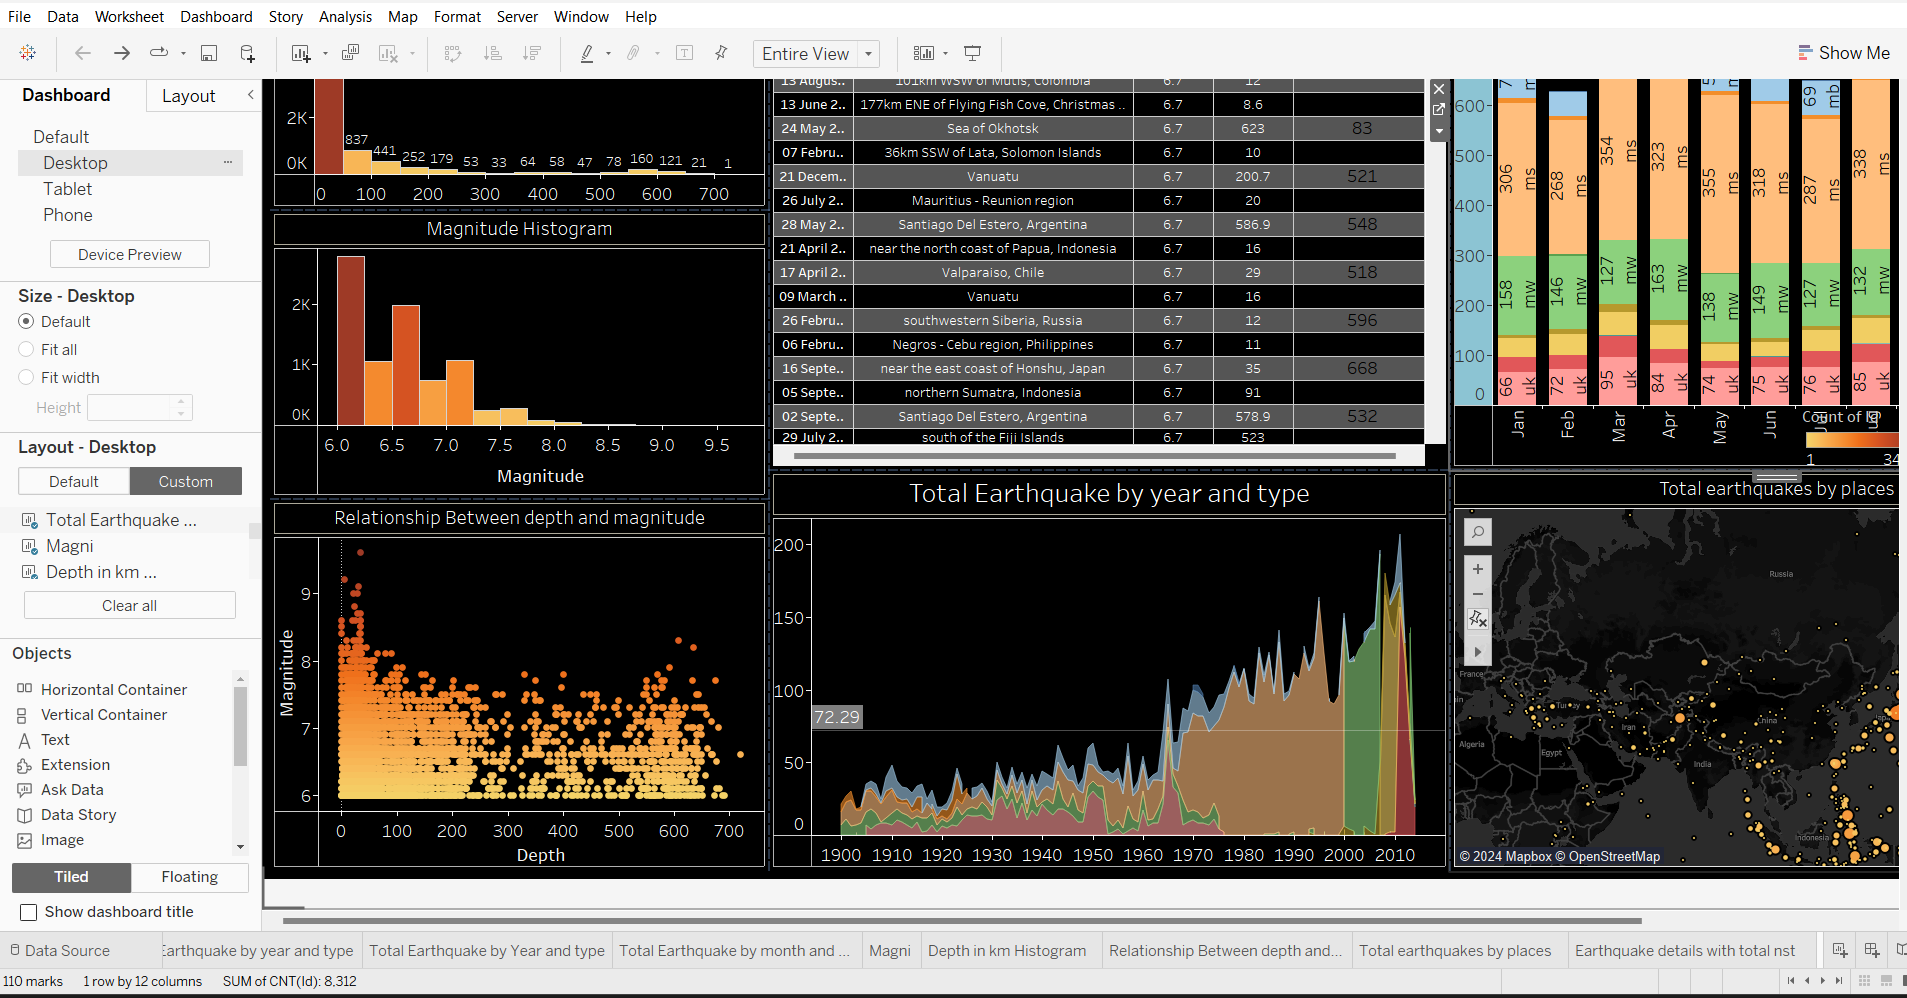

The dashboard page shown, as its layout file describes it:
{"tool":"tableau","page":{"name":"Dashboard 1","canvas":[1850,1050],"ordinal":0},"visuals":[{"type":"filter","title":"Total Earthquake by year and type","param":"[federated.1w4dnm40w1v2qy1ahu4ej04qu947].[none:Calculation_1507298525787938816:o","box":[8,8,1834,101]},{"type":"worksheet","title":"Depth in km Histogram","mark":"Automatic","rows":["depth"],"cols":["Depth (bin)"],"box":[8,109,499,258]},{"type":"worksheet","title":"Earthquake details with total nst","mark":"Automatic","rows":["Date","place","mag","depth"],"box":[507,109,681,532]},{"type":"worksheet","title":"Total Earthquake by month and type ","mark":"Bar","rows":["id"],"cols":["Date"],"box":[1188,109,654,532]},{"type":"worksheet","title":"Magni","mark":"Automatic","rows":["mag"],"cols":["Mag (bin)"],"box":[8,367,499,274]},{"type":"legend","title":"Total earthquakes by places","param":"[federated.1w4dnm40w1v2qy1ahu4ej04qu947].[cnt:id:qk]","box":[1540,577,113,64]},{"type":"worksheet","title":"Relationship Between depth and magnitude","mark":"Automatic","rows":["mag"],"cols":["depth"],"box":[8,641,499,401]},{"type":"worksheet","title":"Total Earthquake by year and type","mark":"Area","rows":["id"],"cols":["Date"],"box":[507,641,681,401]},{"type":"worksheet","title":"Total earthquakes by places","mark":"Automatic","rows":["latitude"],"cols":["longitude"],"box":[1188,641,654,401]}]}

Visuals, with their boxes on the page's 1850x1050 design canvas (x1, y1, x2, y2). These are canvas units, not pixel positions in the 1907x998 screenshot, which may show the page scaled, cropped or inside an application window:
"Total Earthquake by year and type" filter: bbox=(8, 8, 1842, 109)
"Depth in km Histogram" worksheet: bbox=(8, 109, 507, 367)
"Earthquake details with total nst" worksheet: bbox=(507, 109, 1188, 641)
"Total Earthquake by month and type " worksheet (Bar marks): bbox=(1188, 109, 1842, 641)
"Magni" worksheet: bbox=(8, 367, 507, 641)
"Total earthquakes by places" legend: bbox=(1540, 577, 1653, 641)
"Relationship Between depth and magnitude" worksheet: bbox=(8, 641, 507, 1042)
"Total Earthquake by year and type" worksheet (Area marks): bbox=(507, 641, 1188, 1042)
"Total earthquakes by places" worksheet: bbox=(1188, 641, 1842, 1042)
